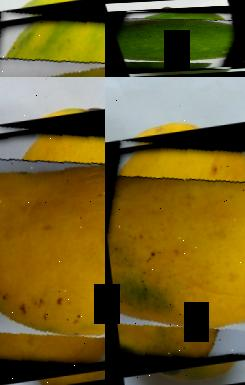PartiallyRipe: (0, 0, 105, 77)
Ripe: (105, 123, 245, 370), (0, 109, 105, 379)
Unripe: (108, 7, 245, 72)
